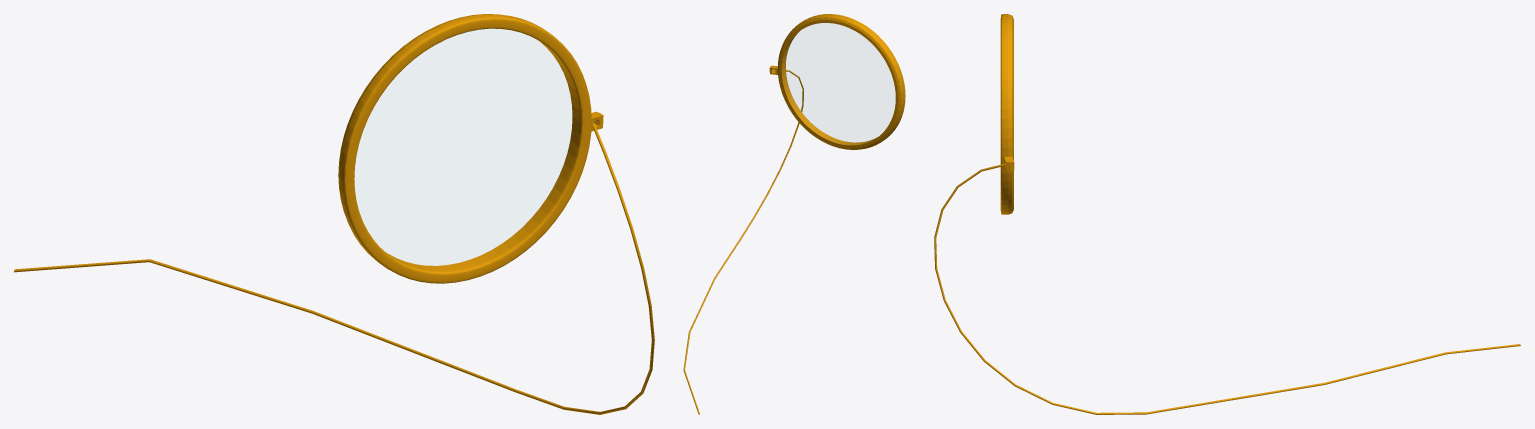
File: gozluk.fbx
3 views of the same model, side by side, from view 1: azimuth 30°, elevation 25°; view 2: azimuth 150°, elevation 25°; view 3: azimuth 270°, elevation 25° (orthographic). The views are drawn at different scales.
Visible parts, largest first — view 1: Circle.001; view 2: Circle.001; view 3: Circle.001.
Part boxes in pixels (x1,y1,x2,y2): Circle.001: [14, 14, 654, 414]; Circle.001: [683, 14, 905, 414]; Circle.001: [934, 14, 1520, 414].
Size of the model in its own units: 108 by 176 by 267.
